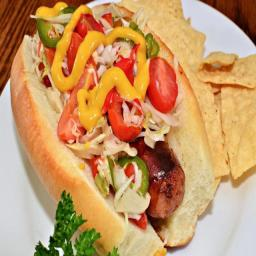hotdog: (14, 8, 240, 256)
